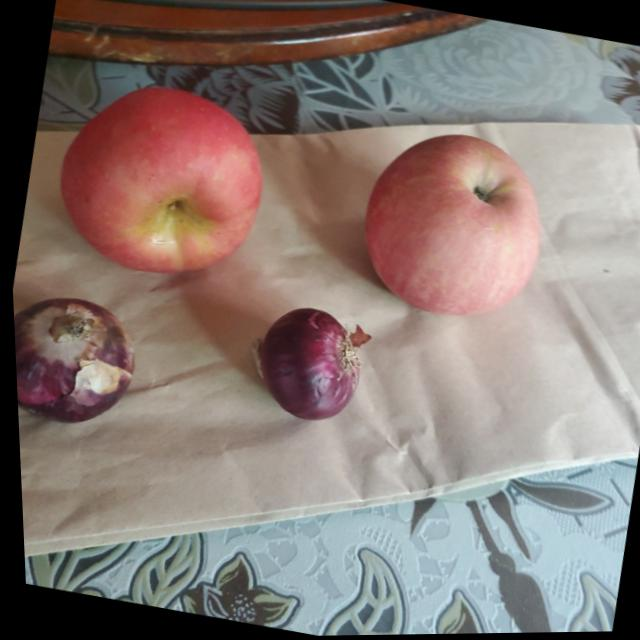apple: (39, 62, 283, 290), (342, 112, 565, 332)
onion: (10, 287, 140, 425), (244, 299, 367, 429)
